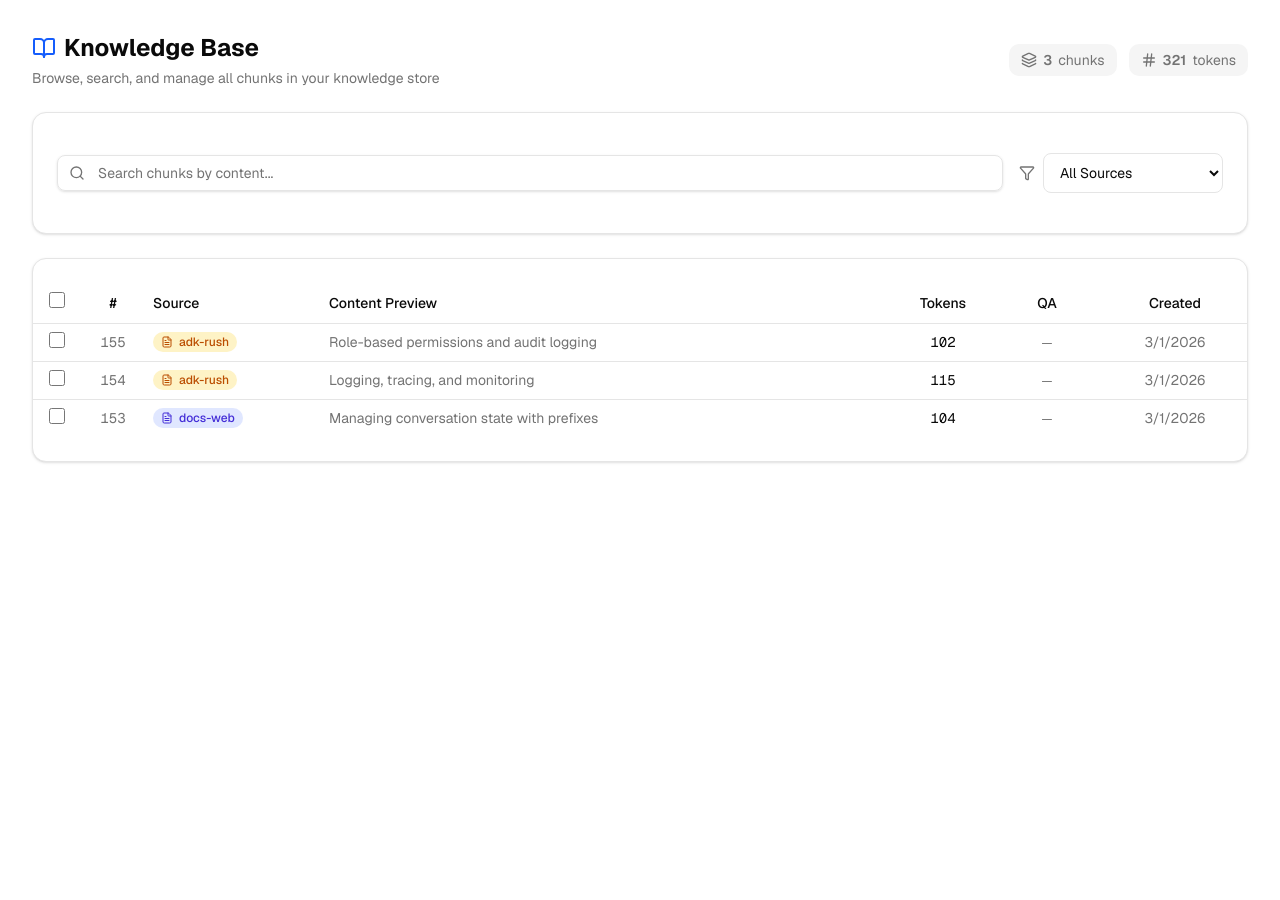
Test: KnowledgePage — Selective Chunk QA (Issue #179) › shows floating action bar when chunks are selected
// Click first chunk checkbox
Click the checkbox named "Select chunk 155".
click(57, 340)  # box x1=49 y1=332 x2=65 y2=348
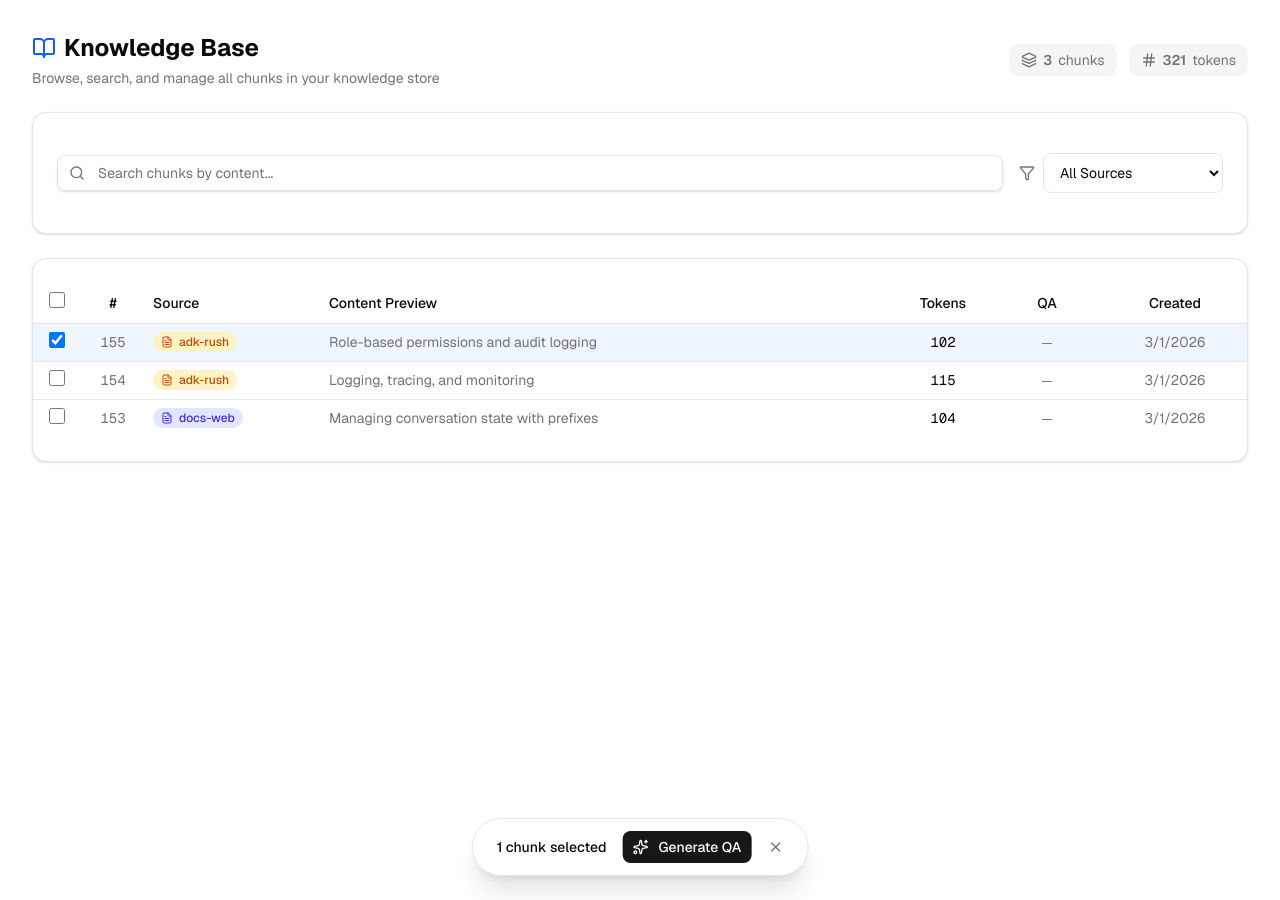
Check: the text "1 chunk selected" is shown, box x1=497 y1=837 x2=606 y2=857
Check: the button "Generate QA" is shown, box x1=622 y1=831 x2=751 y2=863
